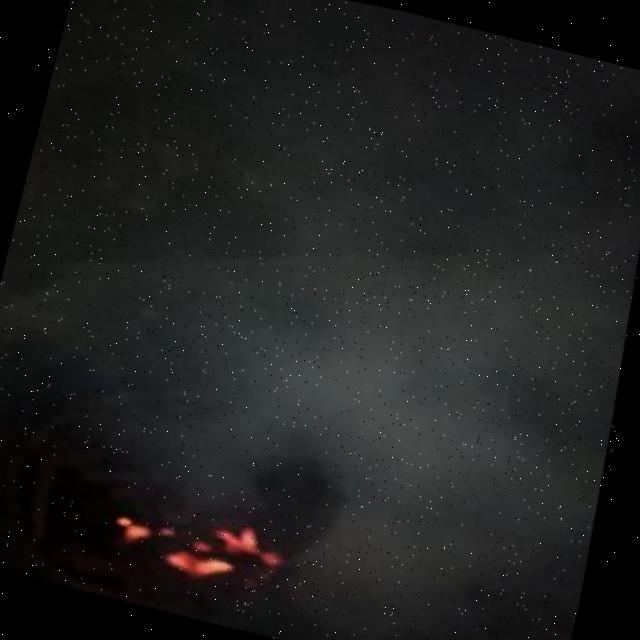fire: (114, 494, 309, 612)
